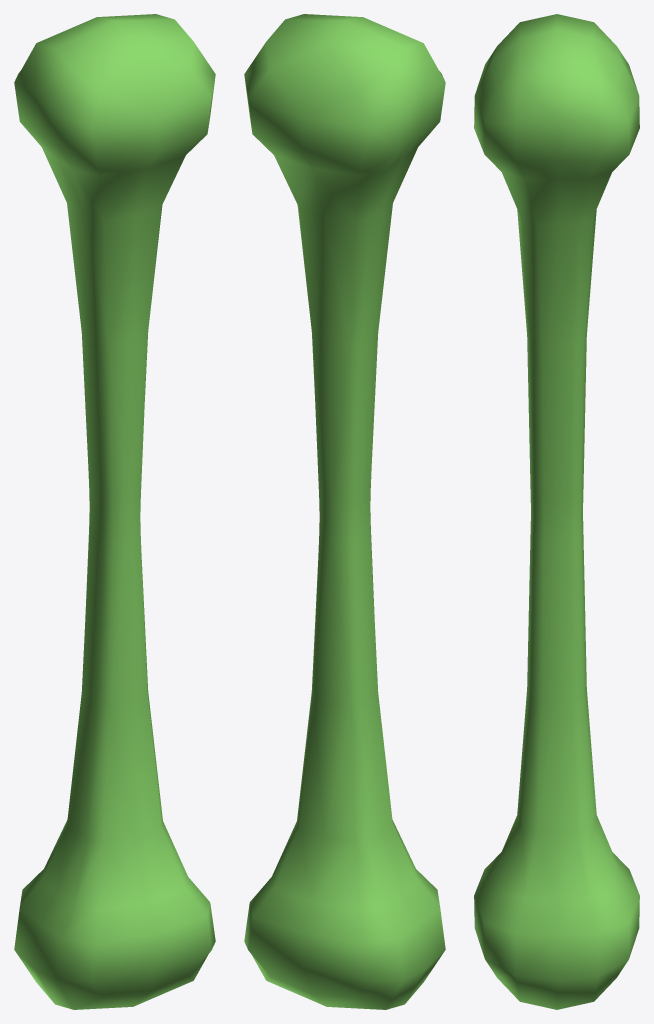
The model's file is Bone_TX.fbx.
The picture shows the model from 3 angles, left to right: view 1: azimuth 30°, elevation 25°; view 2: azimuth 150°, elevation 25°; view 3: azimuth 270°, elevation 25°; orthographic projection.
Parts seen in each view (by area): view 1: Bone1; view 2: Bone1; view 3: Bone1.
Part boxes in pixels (bbox=[...]): Bone1: bbox=[14, 14, 215, 1009]; Bone1: bbox=[244, 14, 445, 1009]; Bone1: bbox=[474, 14, 639, 1009].
Size of the model in its own units: 1.81 by 10.65 by 1.66.
